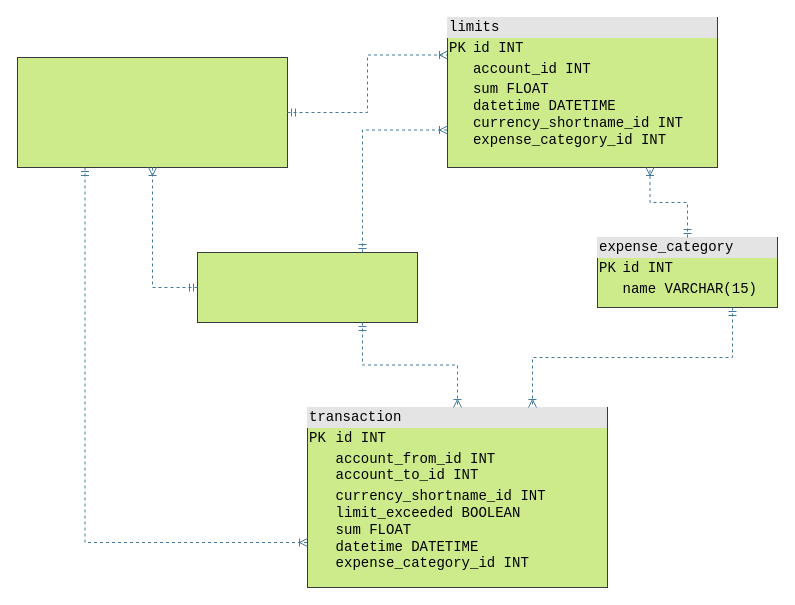
This 795x605 diagram has some shape labels left out. Here are the shapes that lost their labels. From the top down, the centre of each, then its label:
At (152,112): "account PK id INT balance FLOAT bank_name VARCHAR(50) currency_shortname_id INT".
At (307,287): "currency_shortname PK id INT shortname VARCHAR(5)".
